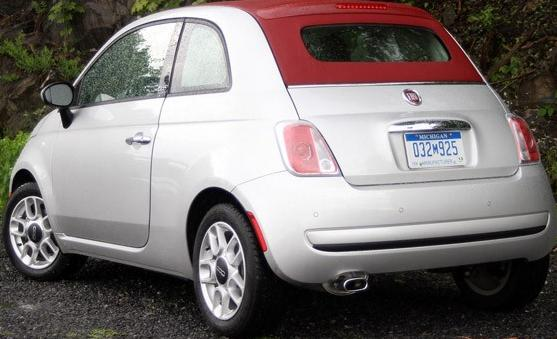back_view: (268, 95, 553, 280)
backlight: (274, 117, 346, 186)
side_glass: (46, 25, 186, 95)
